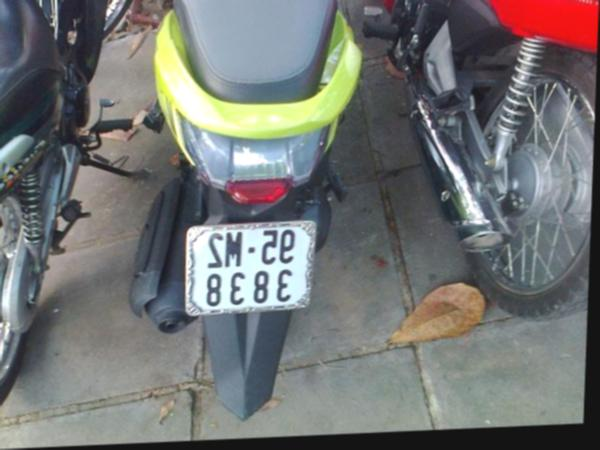License_Plate: (186, 222, 315, 315)
